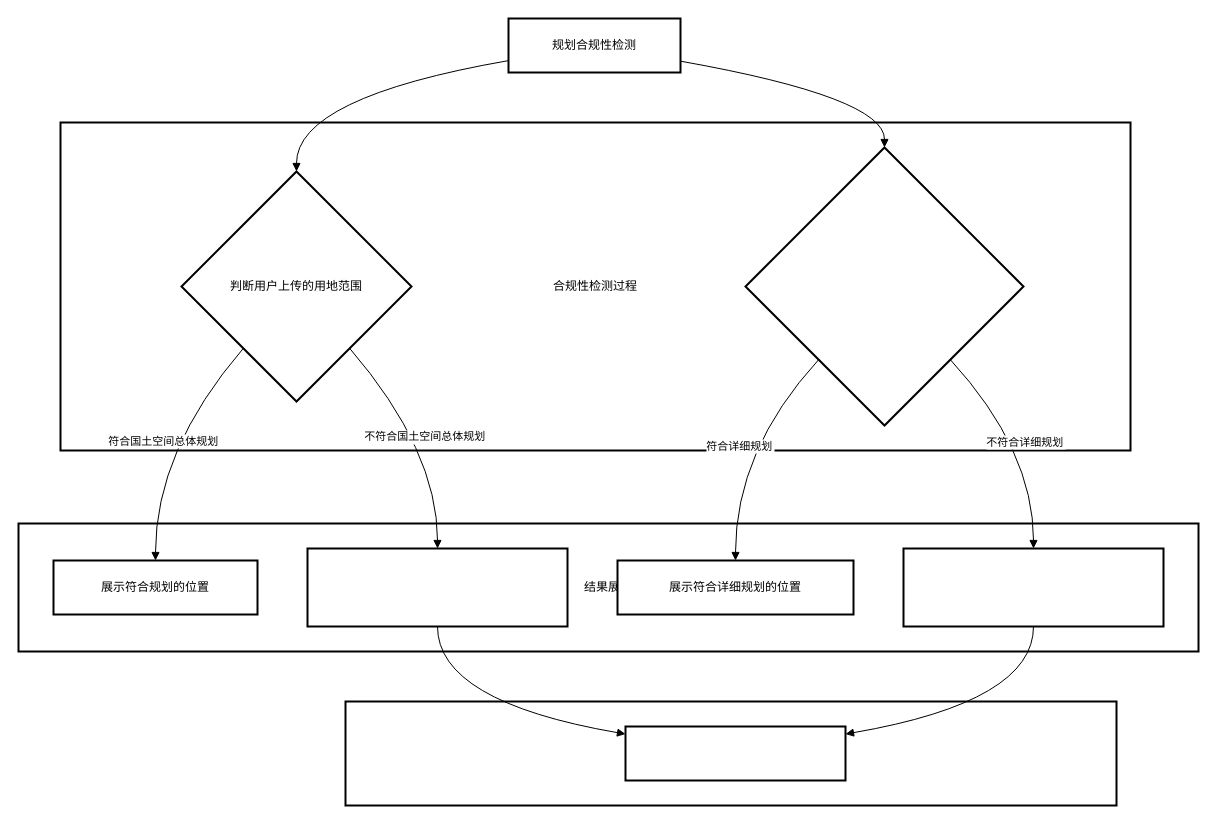
The diagram is 1216 pixels wide and 823 high, and some of its shapes have lost their labels. The shapes that lost their labels are listed below. From the top down, each one's centre as x and y in pixels, then its label:
the point at 884,286: 判断用户上传的用地范围是否符合详细规划
the point at 437,587: 展示不符合规划的位置和面积
the point at 1033,587: 展示不符合详细规划的位置和面积
the point at 735,753: 引导用户开展规划调整
